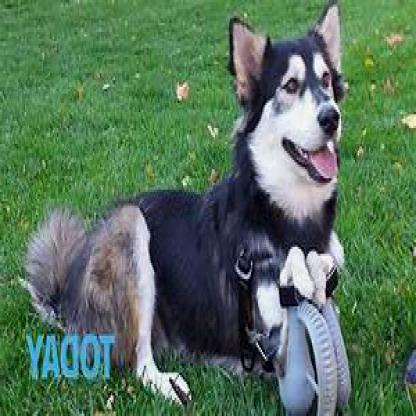dog: (26, 2, 347, 405)
